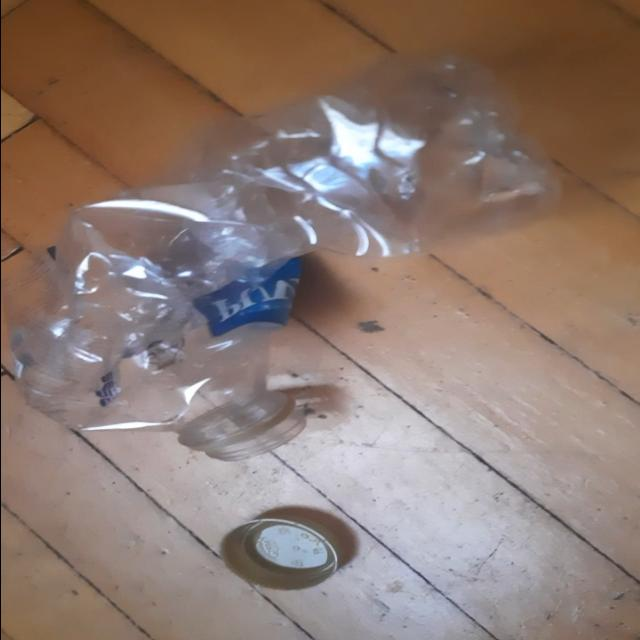Plastic: (9, 52, 560, 460)
